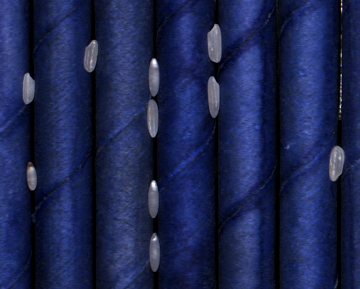complete_grain: (203, 24, 226, 67), (142, 98, 162, 142), (328, 144, 346, 185), (206, 73, 221, 121), (145, 57, 161, 101), (148, 231, 163, 273), (83, 39, 100, 75), (21, 71, 37, 104)
milky_grain: (146, 177, 162, 219)
yellow_grain: (25, 161, 37, 192)
